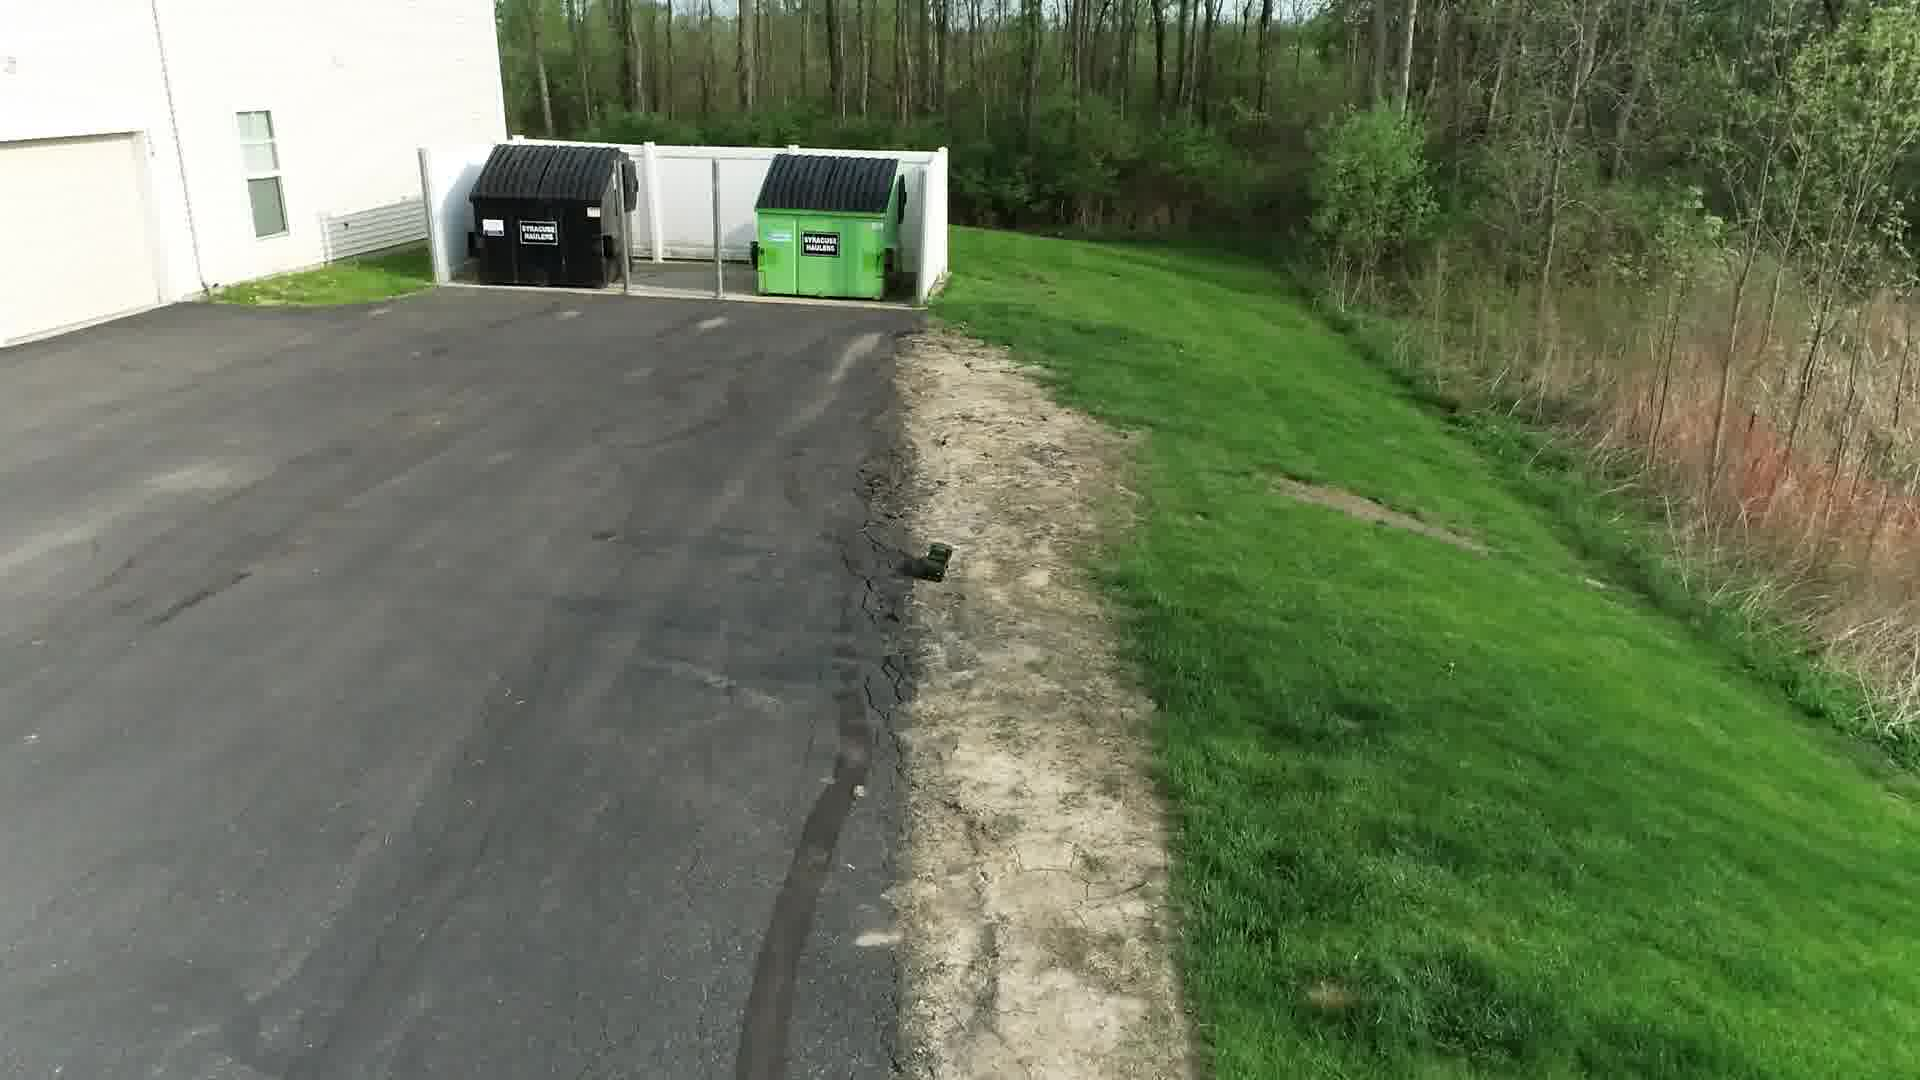transporter9: (914, 541, 956, 582)
